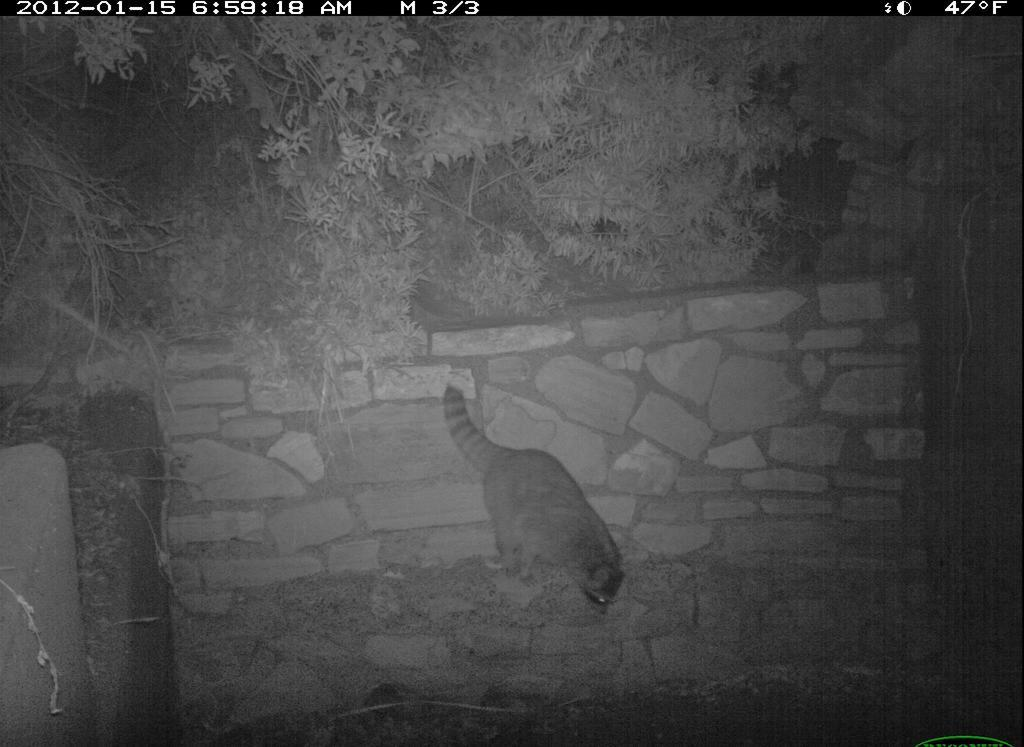raccoon: (402, 360, 642, 628)
